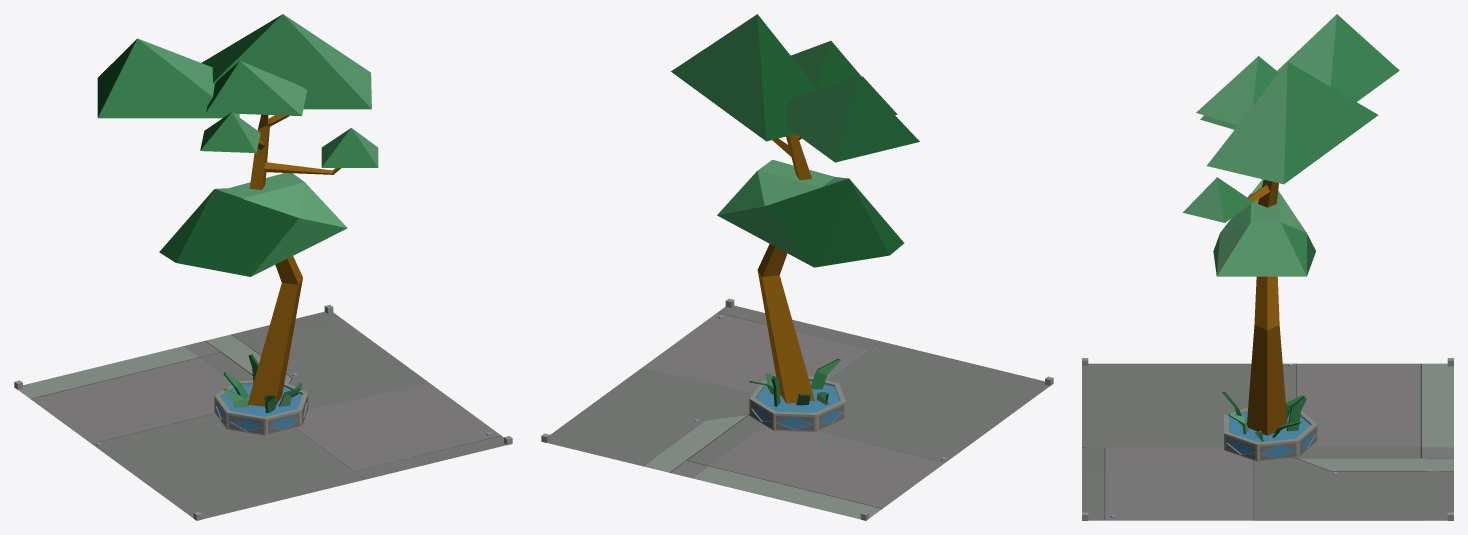
The model's file is Crossroads_A.gltf.
3 views of the same model, side by side, from view 1: azimuth 30°, elevation 25°; view 2: azimuth 150°, elevation 25°; view 3: azimuth 270°, elevation 25° (orthographic). The views are drawn at different scales.
Parts seen in each view (by area): view 1: Scifi_Panel_04_Plaza014_group4.011_Scifi_Panel_04_Plaza014_.; view 2: Scifi_Panel_04_Plaza014_group4.011_Scifi_Panel_04_Plaza014_.; view 3: Scifi_Panel_04_Plaza014_group4.011_Scifi_Panel_04_Plaza014_..
Part boxes in pixels (x1,y1,x2,y2): Scifi_Panel_04_Plaza014_group4.011_Scifi_Panel_04_Plaza014_.: (14,14,512,520); Scifi_Panel_04_Plaza014_group4.011_Scifi_Panel_04_Plaza014_.: (541,14,1053,520); Scifi_Panel_04_Plaza014_group4.011_Scifi_Panel_04_Plaza014_.: (1082,14,1453,520).
Size of what is drawn, in the model's own units: 10 by 11.74 by 10.
Materials: 1 (1 with a texture image).
